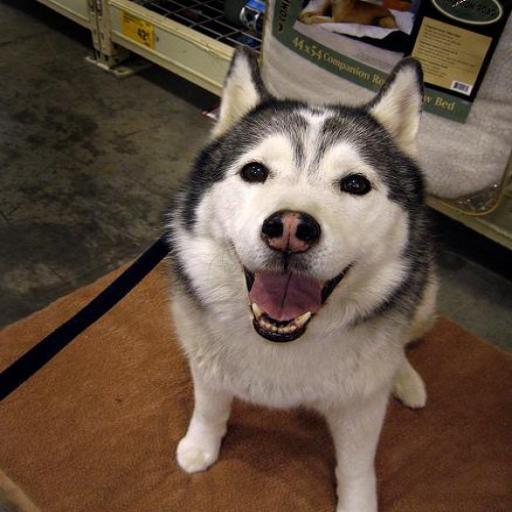dog_face: (206, 54, 422, 352)
